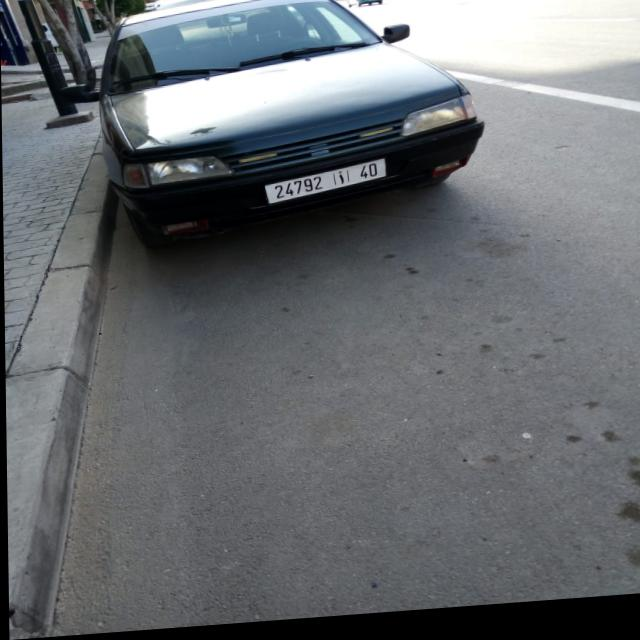License-Plate: (264, 165, 385, 208)
